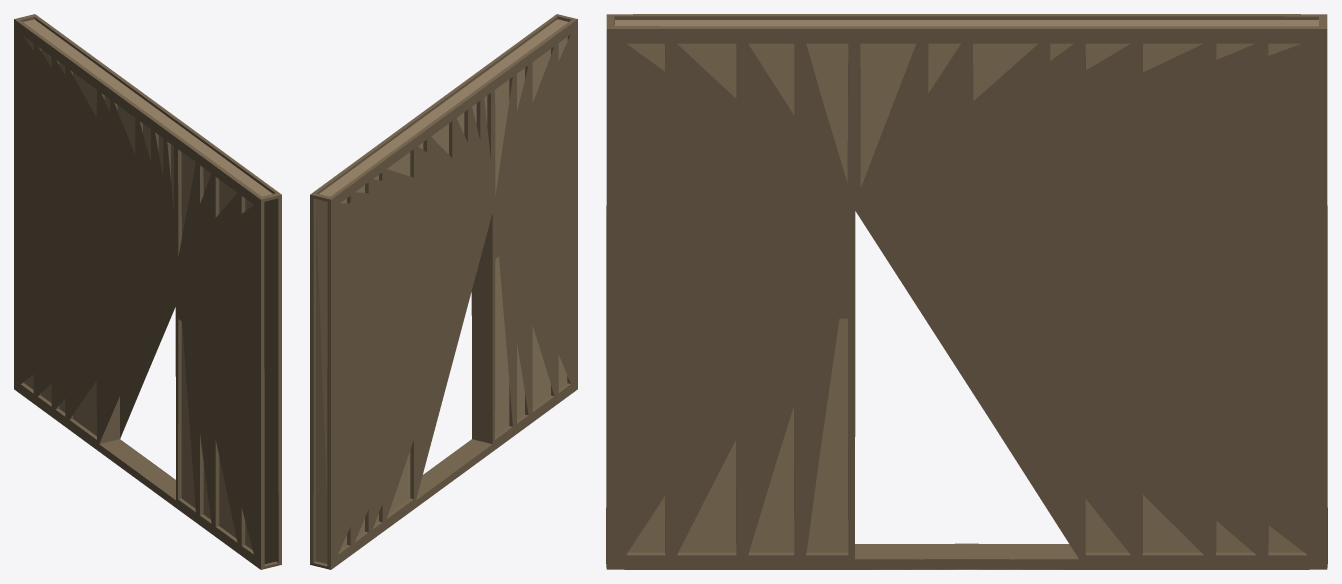
File: Door.fbx
The picture shows the model from 3 angles, left to right: view 1: azimuth 30°, elevation 25°; view 2: azimuth 150°, elevation 25°; view 3: azimuth 270°, elevation 25°; orthographic projection. The views are drawn at different scales.
Parts seen in each view (by area): view 1: Details, Wall; view 2: Details, Wall; view 3: Details, Wall.
Boxes of the visible parts, <box> form: Details: <box>14,14,281,569</box>; Wall: <box>23,19,272,549</box>; Details: <box>310,14,577,569</box>; Wall: <box>316,19,568,563</box>; Details: <box>606,14,1327,569</box>; Wall: <box>614,20,1318,552</box>.
Size of the model in its own units: 0.603 by 10.15 by 12.26.
